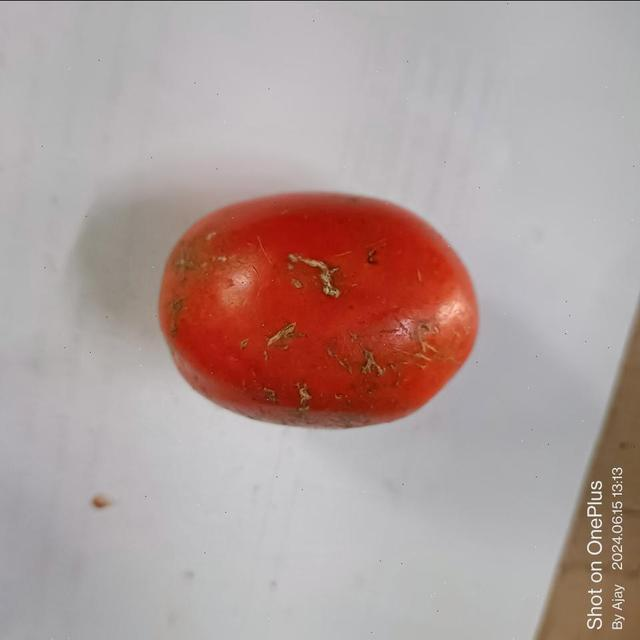Bacterial Spot Fruit: (12, 14, 283, 266)
